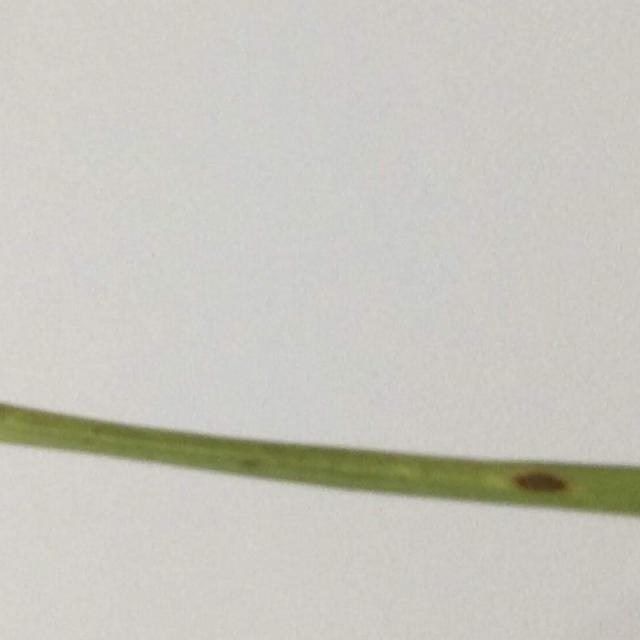Leaf blast: (0, 388, 640, 598)
